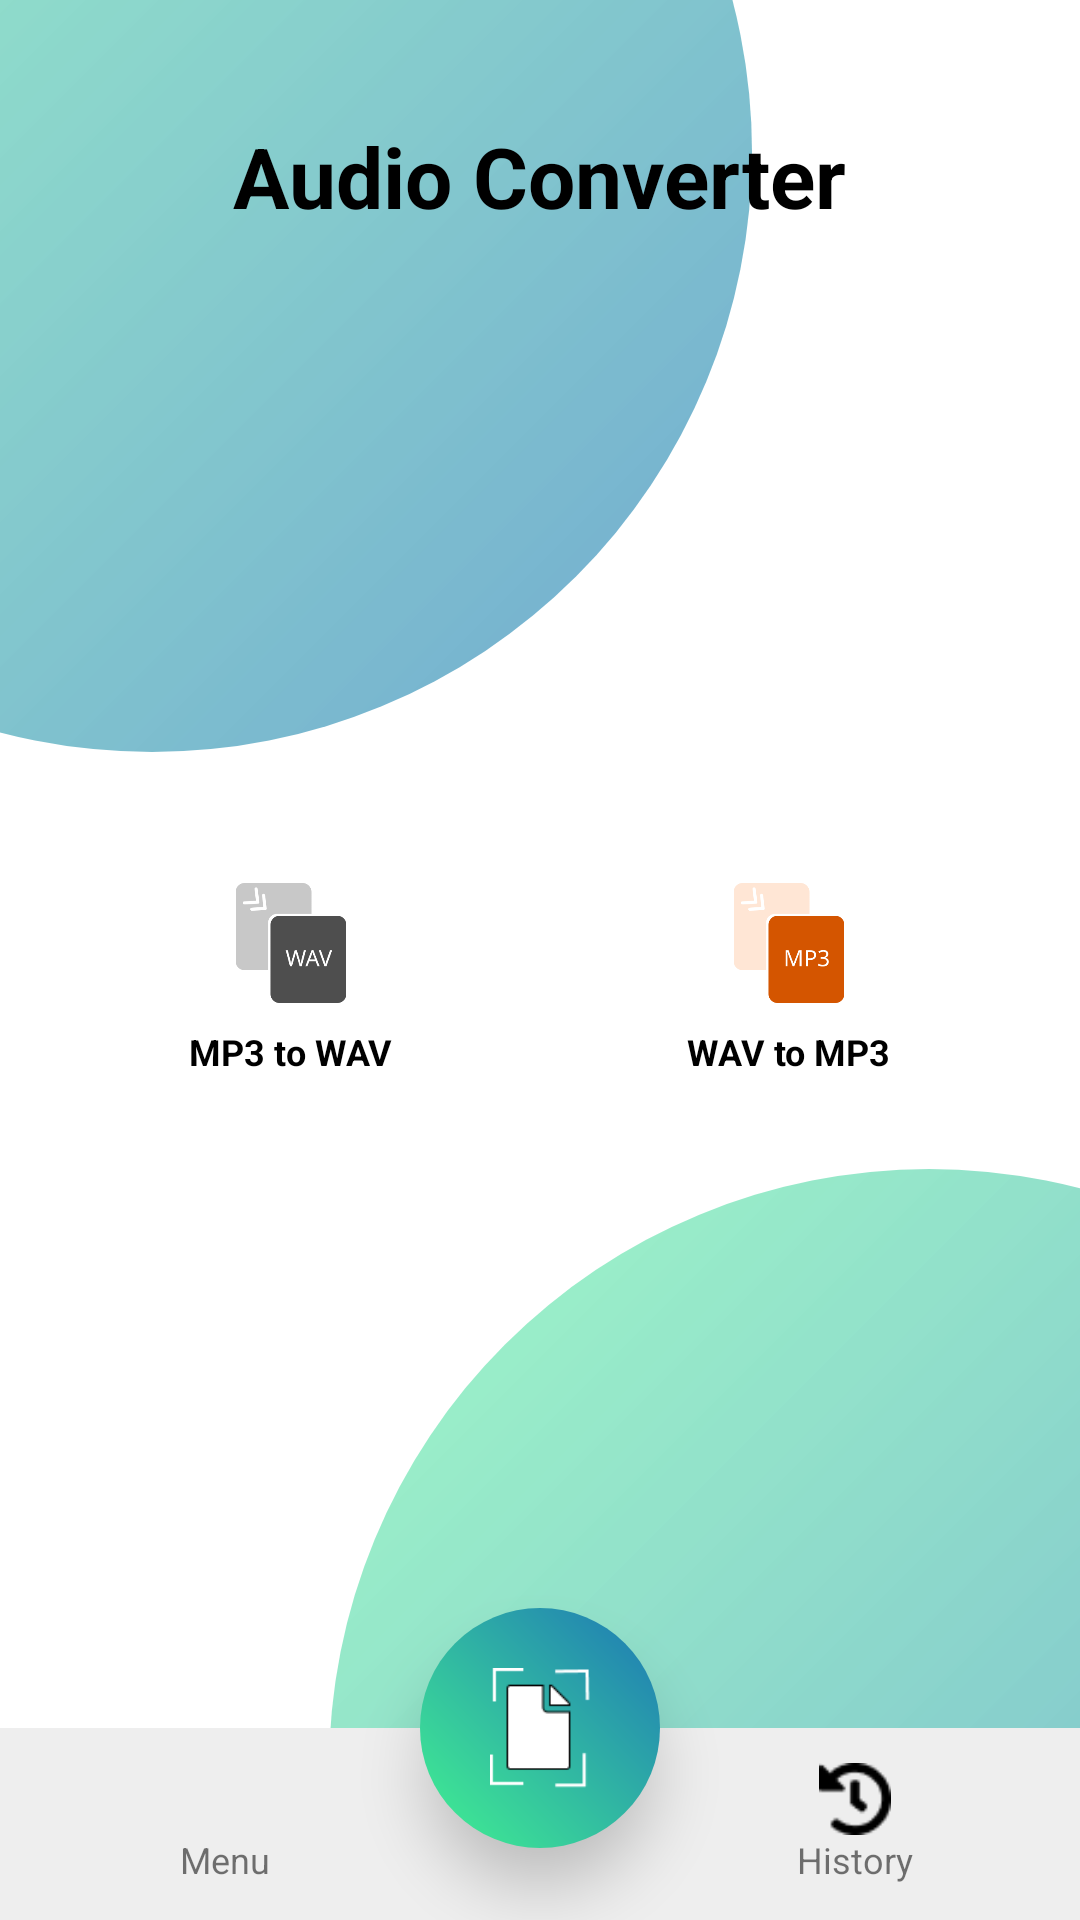

Icon click points for this 1080 × 1920 phone screenshot, format (x,y):
scan: (540,1728)
